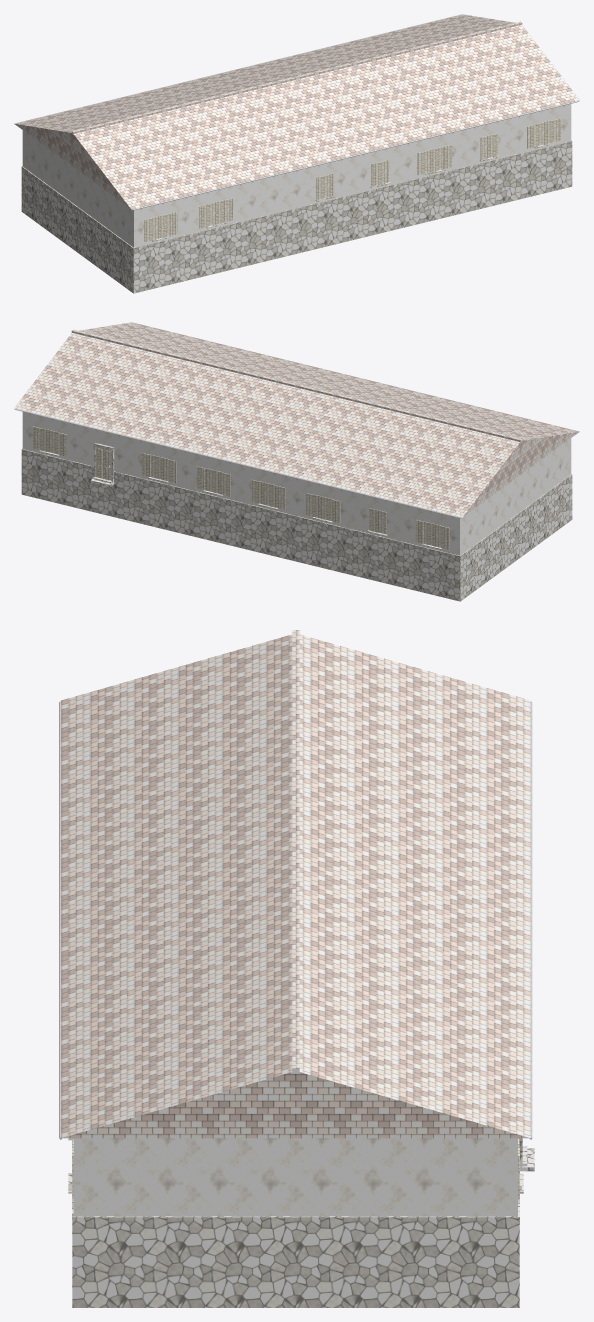
The picture shows the model from 3 angles, top to bottom: view 1: azimuth 30°, elevation 25°; view 2: azimuth 150°, elevation 25°; view 3: azimuth 270°, elevation 25°; orthographic projection. The views are drawn at different scales.
Parts seen in each view (by area): view 1: b1085384684; view 2: b1085384684; view 3: b1085384684.
Part boxes in pixels (box(x1,y1,x2,y2)): b1085384684: box(14, 14, 579, 293); b1085384684: box(14, 322, 579, 601); b1085384684: box(59, 630, 534, 1307).
Size of the model in its own units: 28.24 by 7.35 by 12.94.
16 materials, 16 textured.
